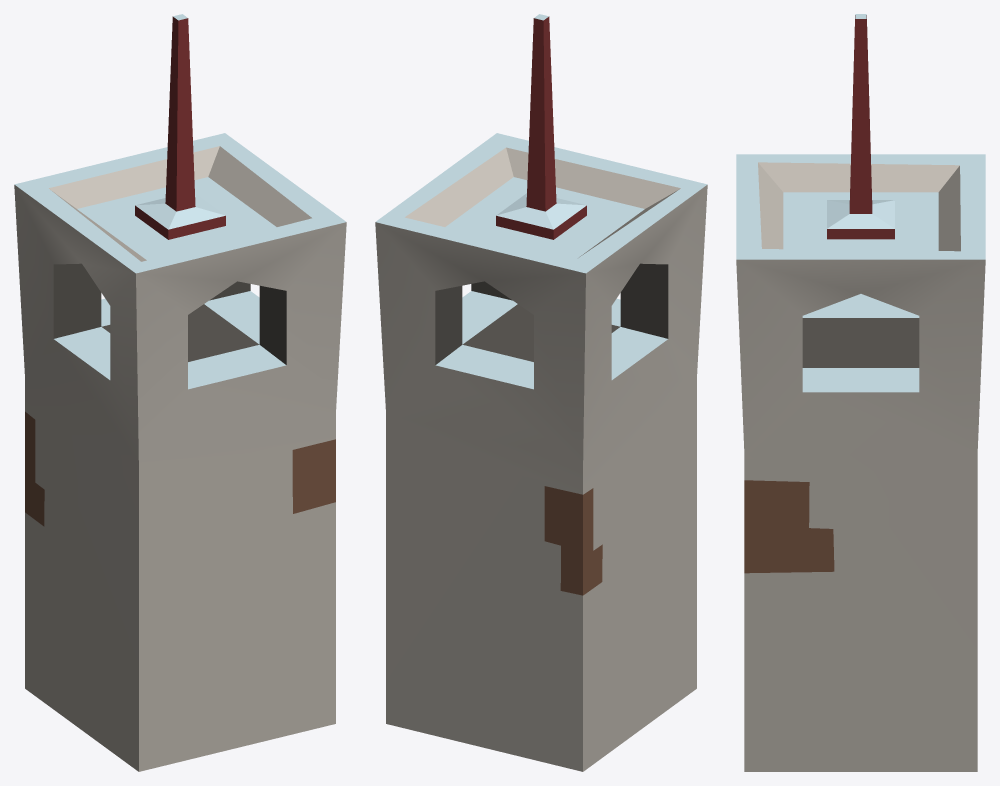
File: SM_Bld_Adventure_Tower_01_Snow.fbx
The picture shows the model from 3 angles, left to right: view 1: azimuth 30°, elevation 25°; view 2: azimuth 150°, elevation 25°; view 3: azimuth 270°, elevation 25°; orthographic projection. The views are drawn at different scales.
Visible parts, largest first — view 1: SM_Bld_Adventure_Tower_01_Snow; view 2: SM_Bld_Adventure_Tower_01_Snow; view 3: SM_Bld_Adventure_Tower_01_Snow.
Boxes of the visible parts, <box> form: SM_Bld_Adventure_Tower_01_Snow: <box>14,14,346,771</box>; SM_Bld_Adventure_Tower_01_Snow: <box>375,14,707,771</box>; SM_Bld_Adventure_Tower_01_Snow: <box>736,14,985,771</box>.
Size of the model in its own units: 63.86 by 199 by 63.86.
Materials: 1 (1 with a texture image).
